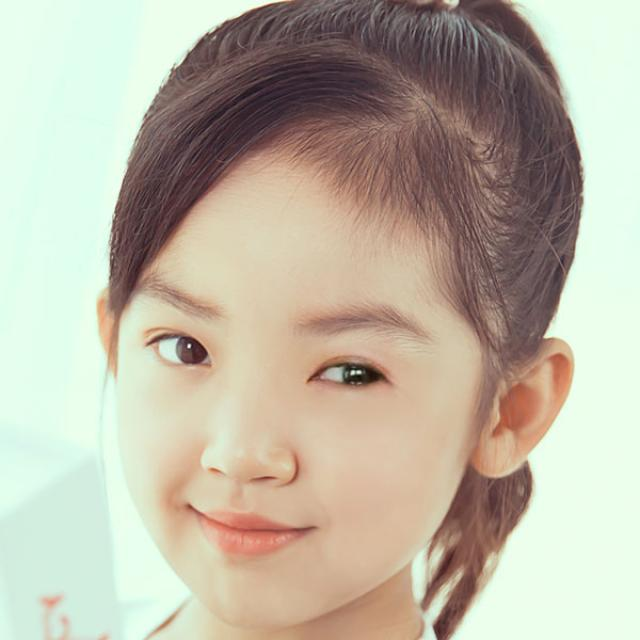face: (92, 2, 577, 634)
